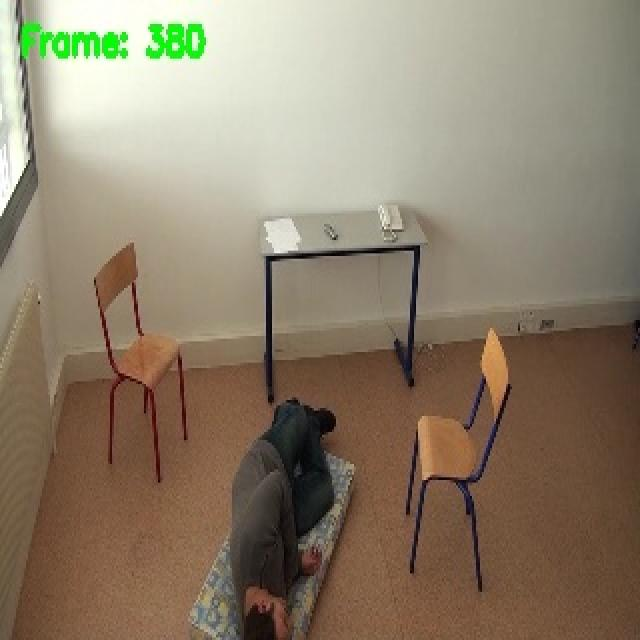Fall: (229, 399, 336, 636)
